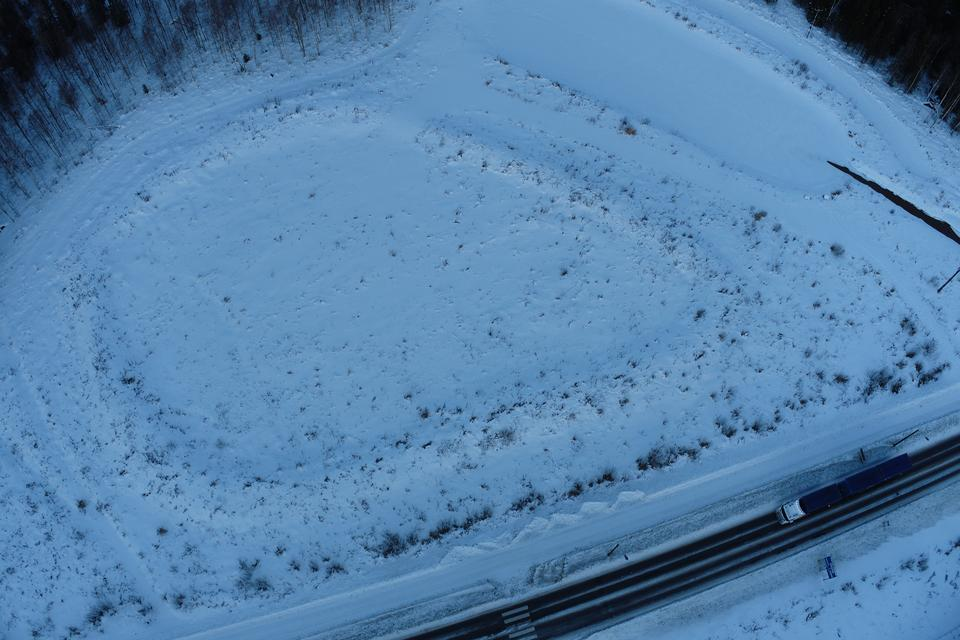intersection: (469, 543, 558, 640)
